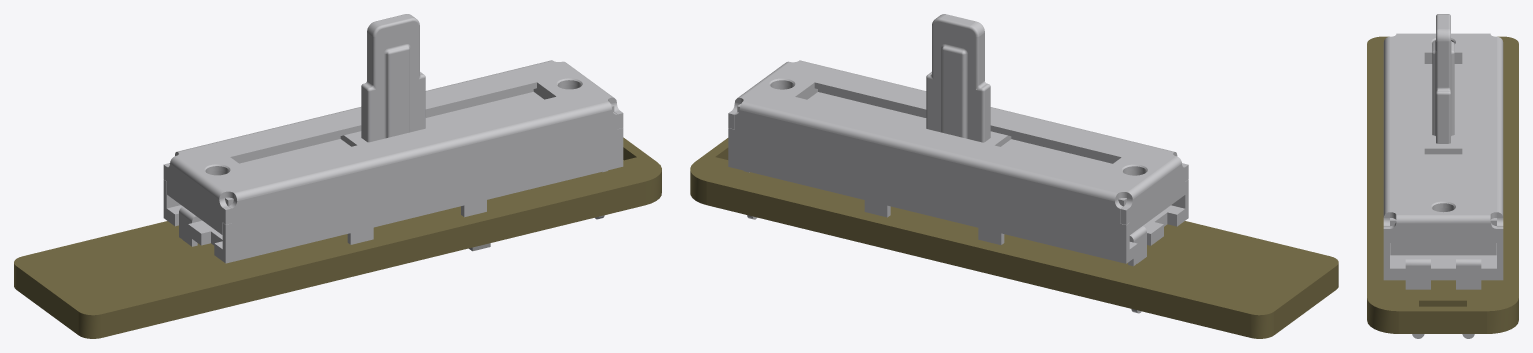
The model's file is ada-5021.glb.
3 views of the same model, side by side, from view 1: azimuth 30°, elevation 25°; view 2: azimuth 150°, elevation 25°; view 3: azimuth 270°, elevation 25° (orthographic). The views are drawn at different scales.
Visible parts, largest first — view 1: 0.5833333333333334_0.5833333333333334_0.5833333333333334_0.8, 0.16666666666666666_0.16666666666666666_0.08333333333333333_; view 2: 0.5833333333333334_0.5833333333333334_0.5833333333333334_0.8, 0.16666666666666666_0.16666666666666666_0.08333333333333333_; view 3: 0.5833333333333334_0.5833333333333334_0.5833333333333334_0.8, 0.16666666666666666_0.16666666666666666_0.08333333333333333_.
Part boxes in pixels (x1=…): 0.5833333333333334_0.5833333333333334_0.5833333333333334_0.8: x1=163, y1=14, x2=623, y2=263; 0.16666666666666666_0.16666666666666666_0.08333333333333333_: x1=14, y1=137, x2=661, y2=338; 0.5833333333333334_0.5833333333333334_0.5833333333333334_0.8: x1=728, y1=14, x2=1188, y2=313; 0.16666666666666666_0.16666666666666666_0.08333333333333333_: x1=690, y1=138, x2=1338, y2=338; 0.5833333333333334_0.5833333333333334_0.5833333333333334_0.8: x1=1383, y1=14, x2=1503, y2=338; 0.16666666666666666_0.16666666666666666_0.08333333333333333_: x1=1367, y1=36, x2=1518, y2=333.
Bounding box in the file's own units: 5.17 × 1.98 × 1.21.
